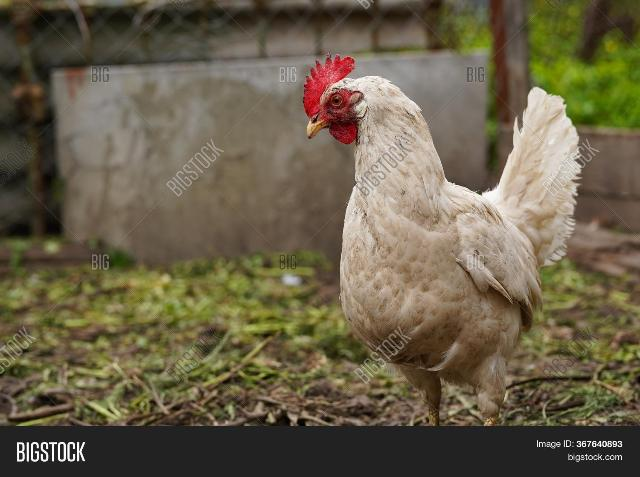Chicken: (301, 52, 583, 427)
